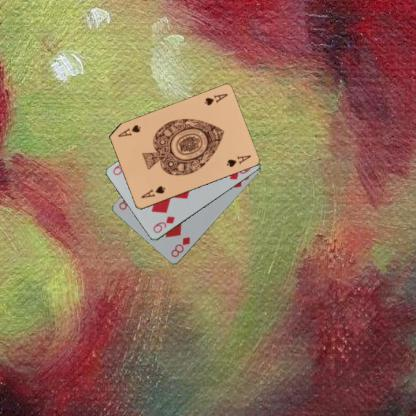8d: (168, 234, 191, 259)
9d: (150, 214, 176, 234)
As: (138, 183, 166, 200), (202, 91, 229, 107)
